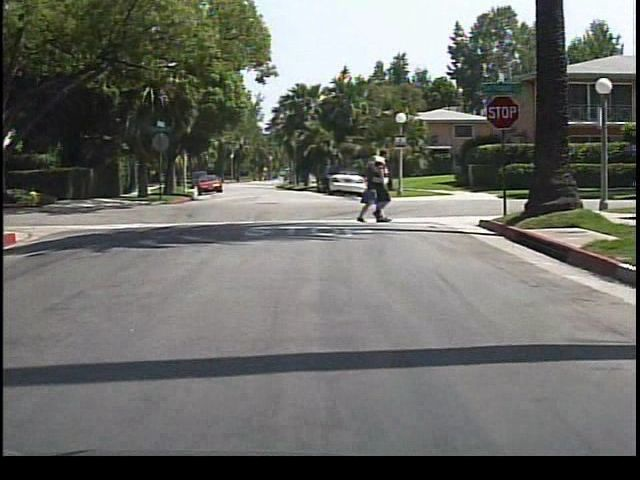person: (364, 147, 399, 225)
